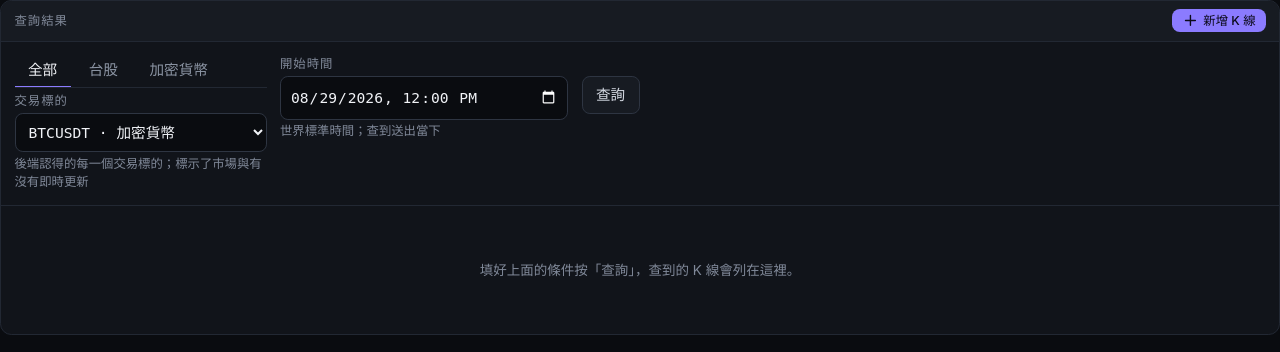
it: KCandleSearchPanel › 開始時間被清空 時標在欄位旁且完全不去查詢
The image size is (1280, 352).
Clear the field with test id "start-time-input". click: (424, 98)
box: x1=280 y1=76 x2=568 y2=120
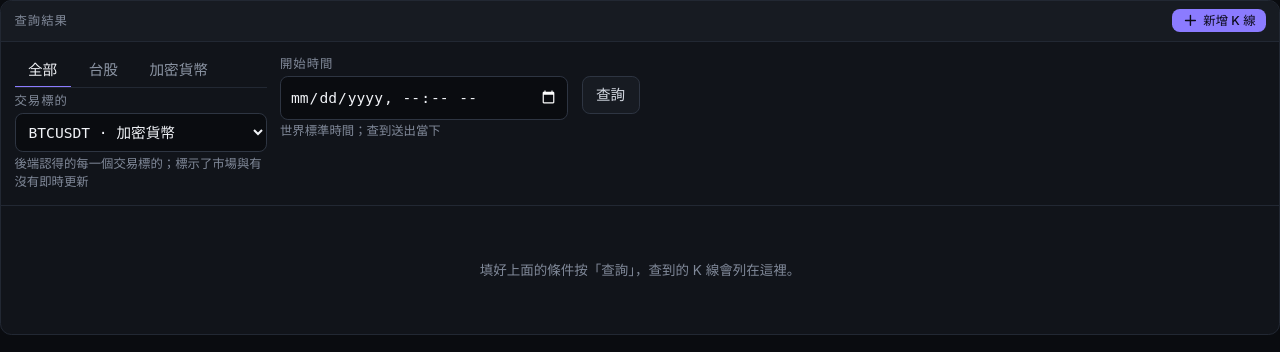
Submit the form, box x1=14 y1=55 x2=640 y2=189
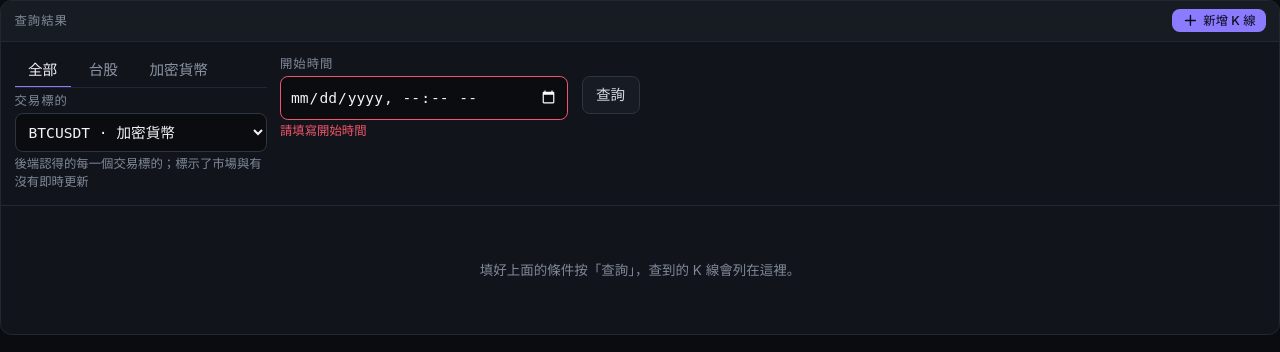
expect the text with test id "field-error" reads "請填寫開始時間": met, box x1=280 y1=123 x2=366 y2=138
